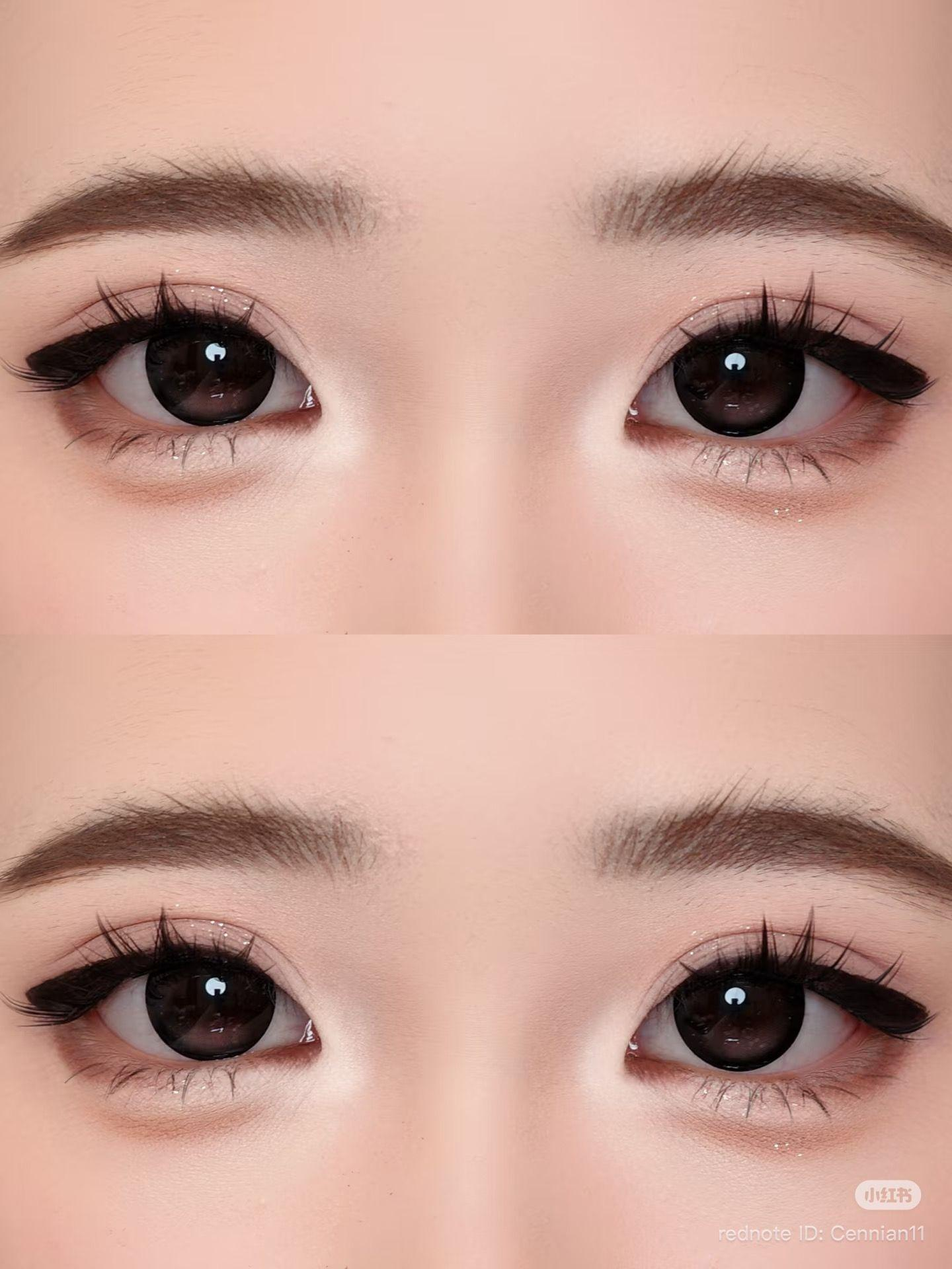non-dog: (1, 637, 952, 1269), (0, 1, 952, 629)
